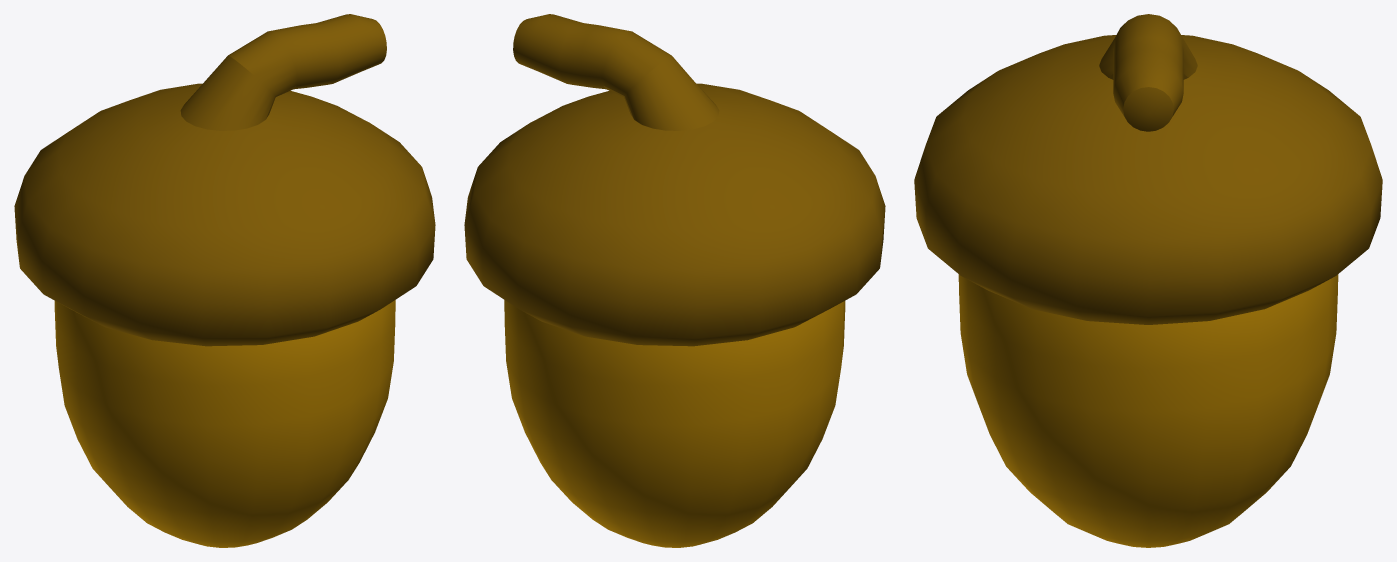
The model's file is Bellota.fbx.
3 views of the same model, side by side, from view 1: azimuth 30°, elevation 25°; view 2: azimuth 150°, elevation 25°; view 3: azimuth 270°, elevation 25° (orthographic). The views are drawn at different scales.
Parts seen in each view (by area): view 1: polySurface3, polySurface4; view 2: polySurface3, polySurface4; view 3: polySurface3, polySurface4.
Part boxes in pixels (left/top/right/bottom): polySurface3: left=14, top=14, right=435, bottom=346; polySurface4: left=54, top=300, right=395, bottom=547; polySurface3: left=464, top=14, right=885, bottom=346; polySurface4: left=504, top=300, right=845, bottom=547; polySurface3: left=914, top=14, right=1382, bottom=324; polySurface4: left=958, top=274, right=1338, bottom=547.
Size of the model in its own units: 4.66 by 5.92 by 4.66.
